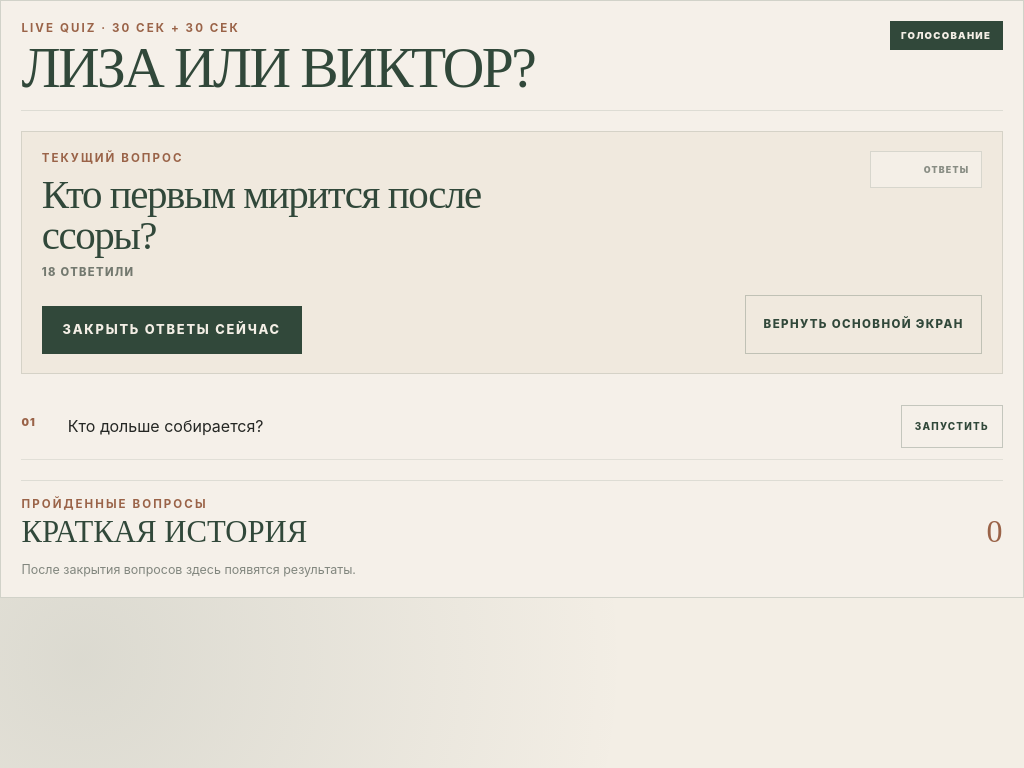
Test case: AdminQuizPanel › reveals aggregate percentages only after the owner closes answers
Click the button "ЗАКРЫТЬ ОТВЕТЫ СЕЙЧАС".
click(172, 330)  # box 42,306 -> 302,354
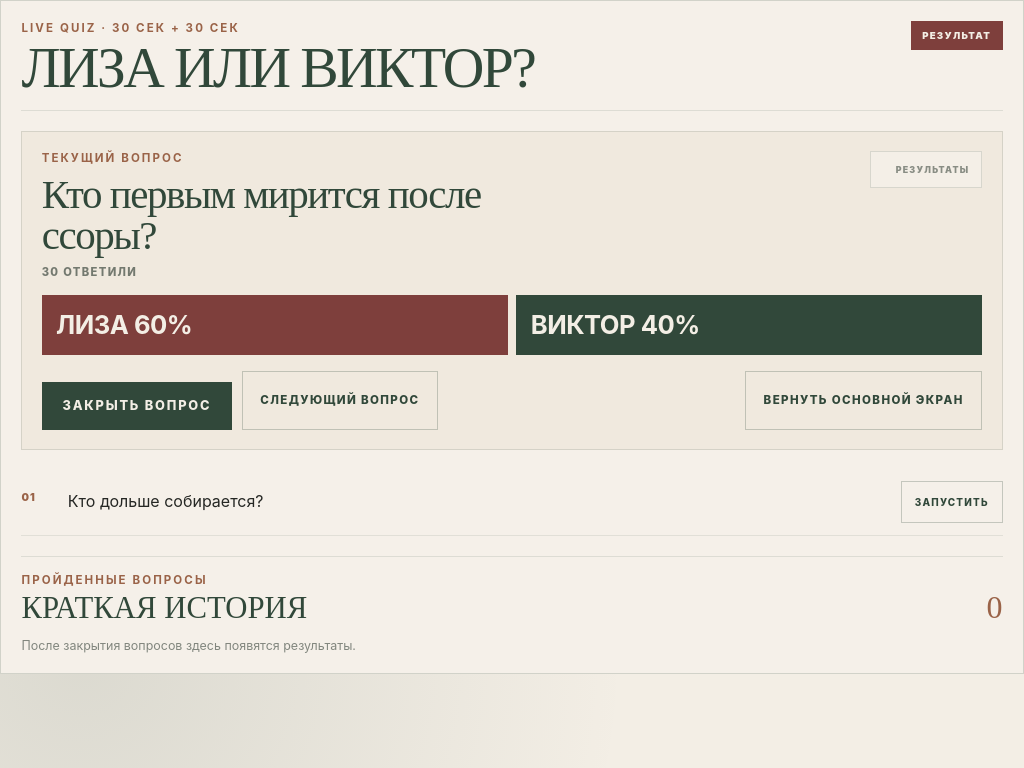
Now the text "ЛИЗА 60%" is shown, box 42,295 -> 508,354
Now the text "ВИКТОР 40%" is shown, box 516,295 -> 982,354
